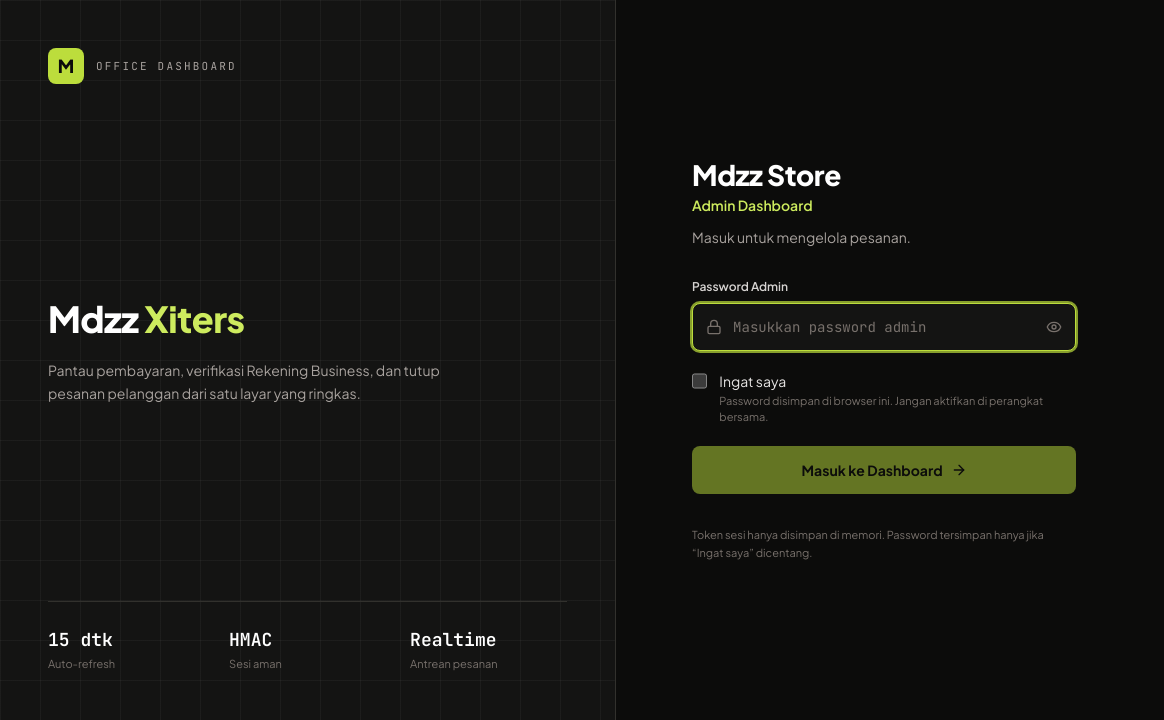
Test: App Integration › logs out and returns to login view when Keluar is clicked
In the password field with placeholder "Masukkan password admin": x=884, y=327 [692,303,1076,351], type "mypassword"
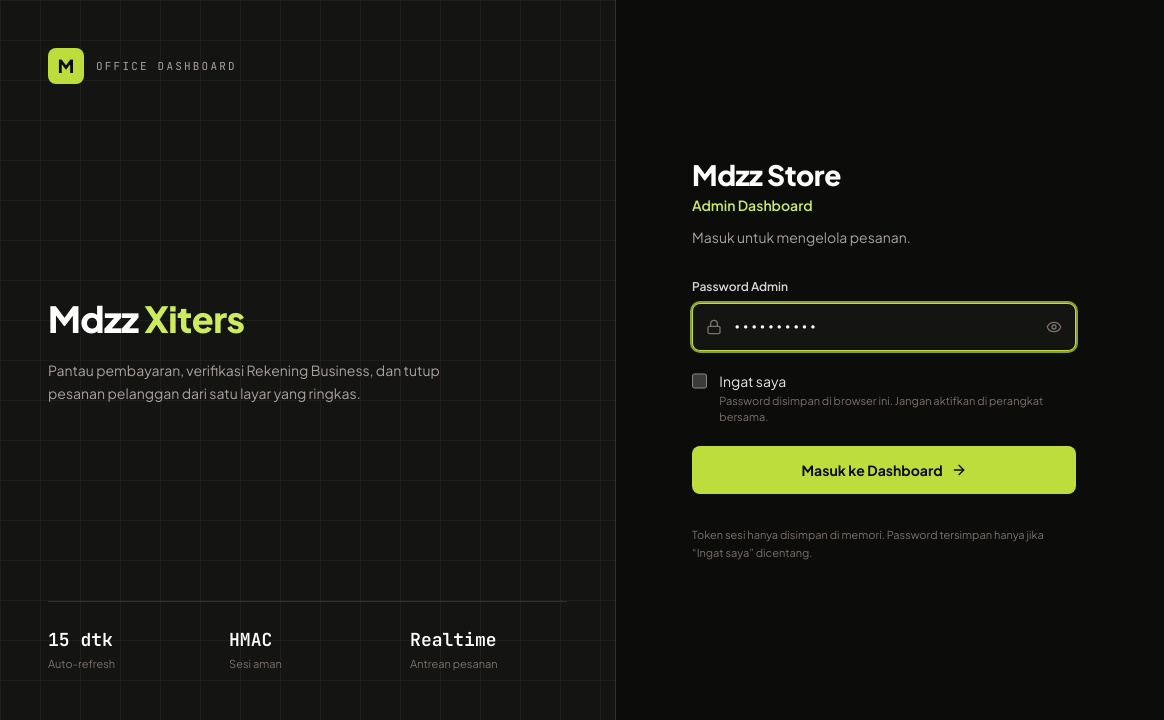
Click the button with aria-label "masuk dashboard": x=884, y=470 [692,446,1076,494]
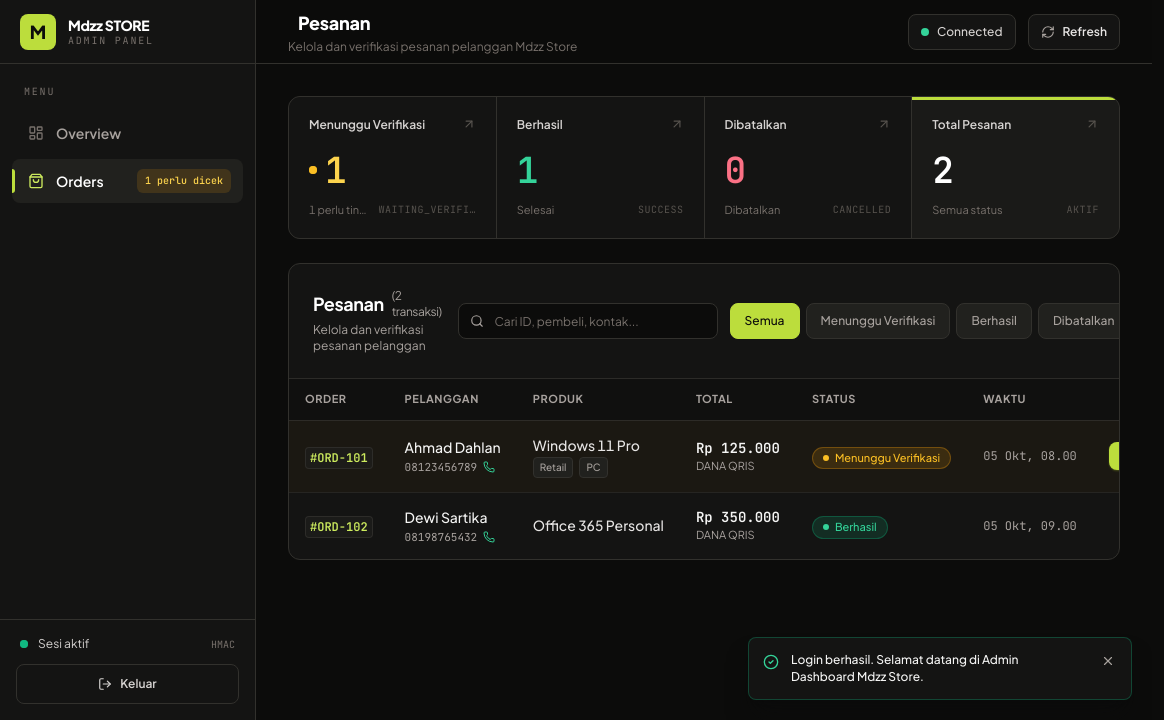
Expected: the text "Connected" is shown, [937,24,1002,40]
# Click Keluar
Click the button "Keluar": x=128, y=684 [16,664,239,704]
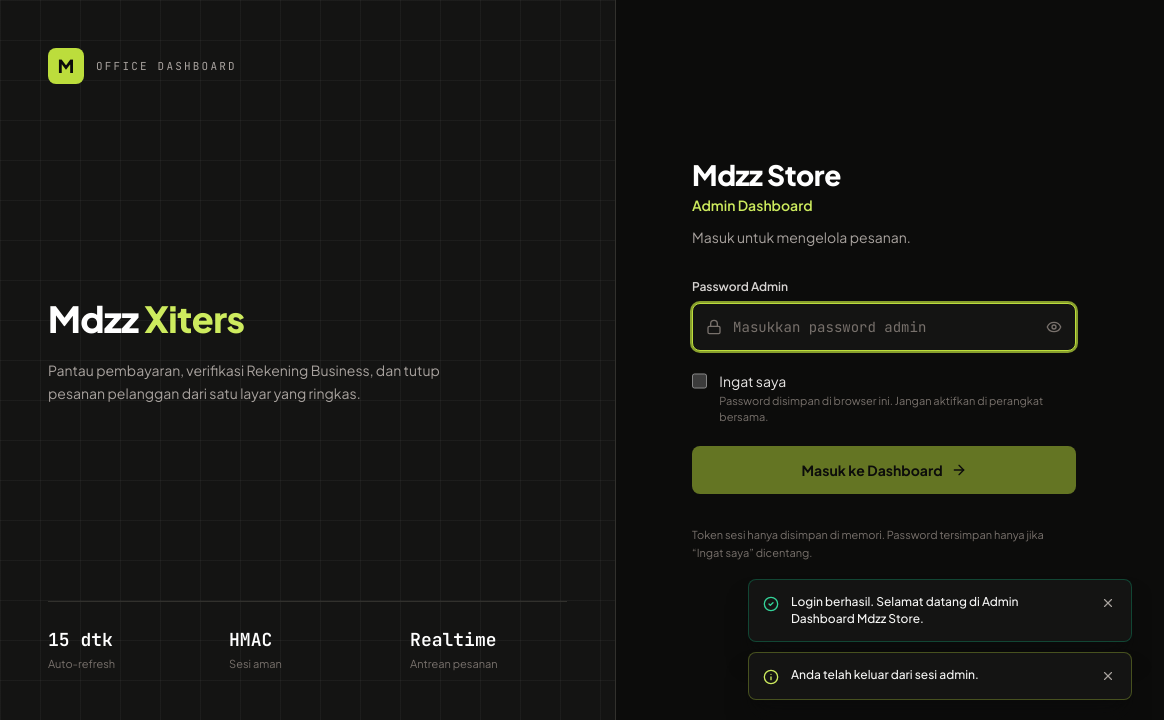
Expected: the password field with placeholder "Masukkan password admin" is shown, [692,303,1076,351]
